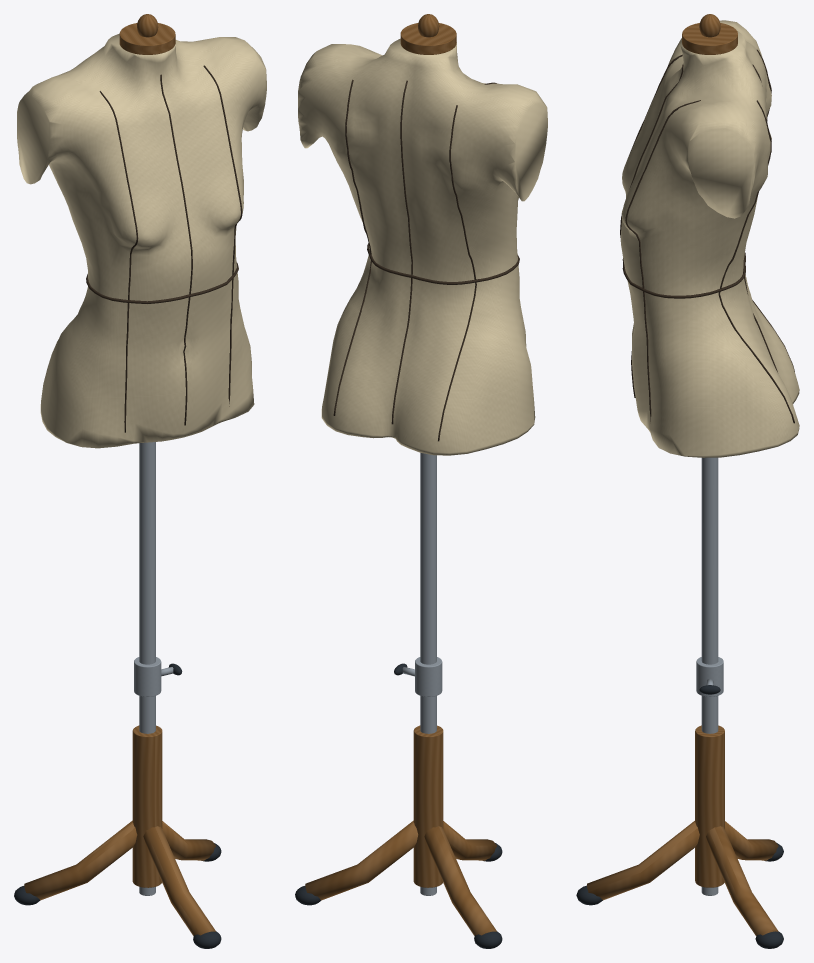
Rendered from mannequin-female.glb.
3 views of the same model, side by side, from view 1: azimuth 30°, elevation 25°; view 2: azimuth 150°, elevation 25°; view 3: azimuth 270°, elevation 25° (orthographic).
Visible parts, largest first — view 1: Covered MakeHuman CC0 torso section, Telescoping support shaft, Lower support collar, Attached tripod base leg.001, Attached tripod base leg.002, Seated wood neck cap, Attached tripod base leg, Height clamp sleeve, Fitted vertical tailoring seam, Fitted vertical tailoring seam.002, Fitted vertical tailoring seam.001, Fitted waist reference tape; view 2: Covered MakeHuman CC0 torso section, Telescoping support shaft, Lower support collar, Attached tripod base leg, Attached tripod base leg.001, Seated wood neck cap, Attached tripod base leg.002, Height clamp sleeve, Fitted vertical tailoring seam.003, Fitted vertical tailoring seam.005, Fitted vertical tailoring seam.004, Fitted waist reference tape; view 3: Covered MakeHuman CC0 torso section, Telescoping support shaft, Lower support collar, Attached tripod base leg.002, Attached tripod base leg, Seated wood neck cap, Attached tripod base leg.001, Height clamp sleeve, Fitted vertical tailoring seam.001, Fitted vertical tailoring seam.004, Fitted waist reference tape.
Boxes of the visible parts, bbox=[...] form: Covered MakeHuman CC0 torso section: bbox=[17, 33, 266, 448]; Telescoping support shaft: bbox=[139, 442, 155, 895]; Lower support collar: bbox=[132, 725, 162, 887]; Attached tripod base leg.001: bbox=[24, 820, 137, 900]; Attached tripod base leg.002: bbox=[143, 826, 215, 936]; Seated wood neck cap: bbox=[119, 23, 175, 54]; Attached tripod base leg: bbox=[162, 821, 215, 860]; Height clamp sleeve: bbox=[134, 657, 161, 696]; Fitted vertical tailoring seam: bbox=[160, 74, 192, 425]; Fitted vertical tailoring seam.002: bbox=[99, 91, 138, 432]; Fitted vertical tailoring seam.001: bbox=[203, 65, 242, 406]; Fitted waist reference tape: bbox=[86, 262, 238, 303]; Covered MakeHuman CC0 torso section: bbox=[298, 38, 547, 455]; Telescoping support shaft: bbox=[420, 453, 436, 895]; Lower support collar: bbox=[413, 725, 443, 887]; Attached tripod base leg: bbox=[305, 820, 418, 900]; Attached tripod base leg.001: bbox=[424, 826, 496, 935]; Seated wood neck cap: bbox=[400, 23, 456, 54]; Attached tripod base leg.002: bbox=[443, 821, 496, 860]; Height clamp sleeve: bbox=[415, 657, 442, 696]; Fitted vertical tailoring seam.003: bbox=[391, 80, 412, 424]; Fitted vertical tailoring seam.005: bbox=[438, 105, 476, 441]; Fitted vertical tailoring seam.004: bbox=[333, 79, 371, 415]; Fitted waist reference tape: bbox=[367, 243, 519, 284]; Covered MakeHuman CC0 torso section: bbox=[620, 20, 799, 457]; Telescoping support shaft: bbox=[701, 457, 718, 895]; Lower support collar: bbox=[695, 725, 724, 887]; Attached tripod base leg.002: bbox=[587, 821, 699, 900]; Attached tripod base leg: bbox=[706, 826, 778, 935]; Seated wood neck cap: bbox=[682, 23, 737, 54]; Attached tripod base leg.001: bbox=[725, 821, 778, 860]; Height clamp sleeve: bbox=[696, 657, 723, 696]; Fitted vertical tailoring seam.001: bbox=[625, 100, 700, 421]; Fitted vertical tailoring seam.004: bbox=[718, 100, 794, 423]; Fitted waist reference tape: bbox=[622, 252, 745, 298].
Size of the model in its own units: 0.42 by 1.64 by 0.374.
Materials: 5 (5 with a texture image).
